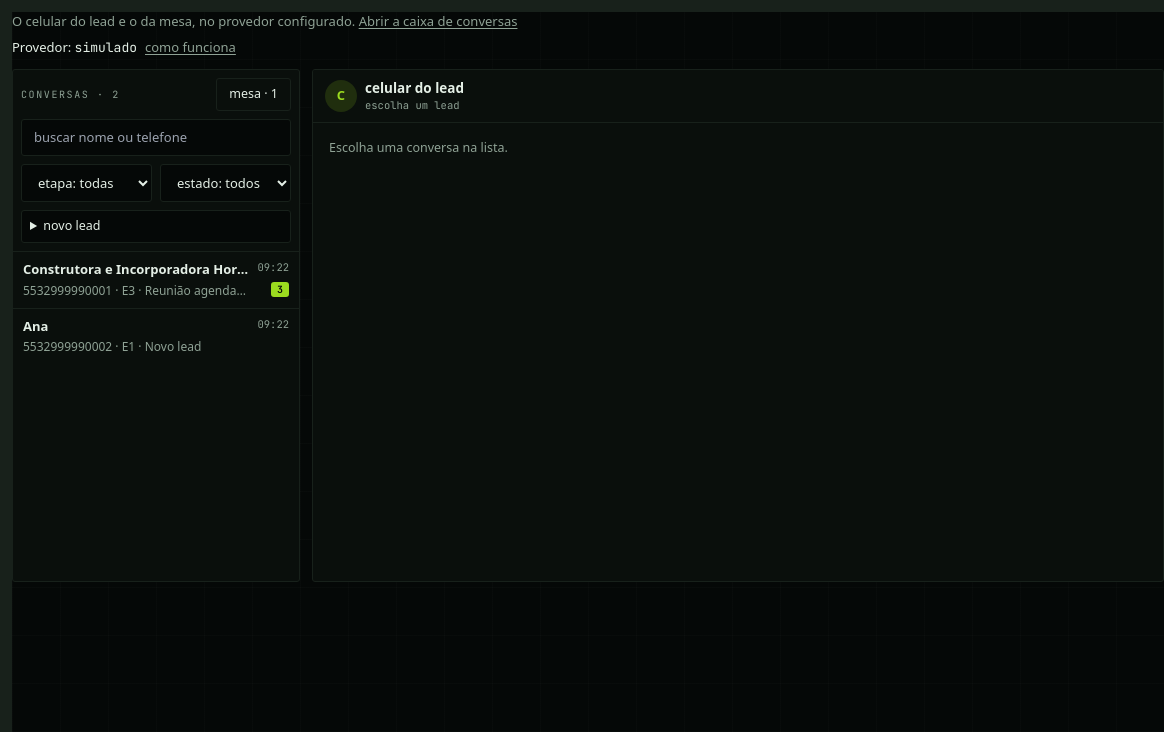
Test: WhatsApp do comercial: três colunas no desktop, uma por vez no celular › a mesa é alcançável da lista (aba mesa), mesmo sem conversa aberta
The width and height of the screenshot is (1164, 732).
Click the button with test id "whats-abrir-mesa": (254, 94) [216,78,291,111]
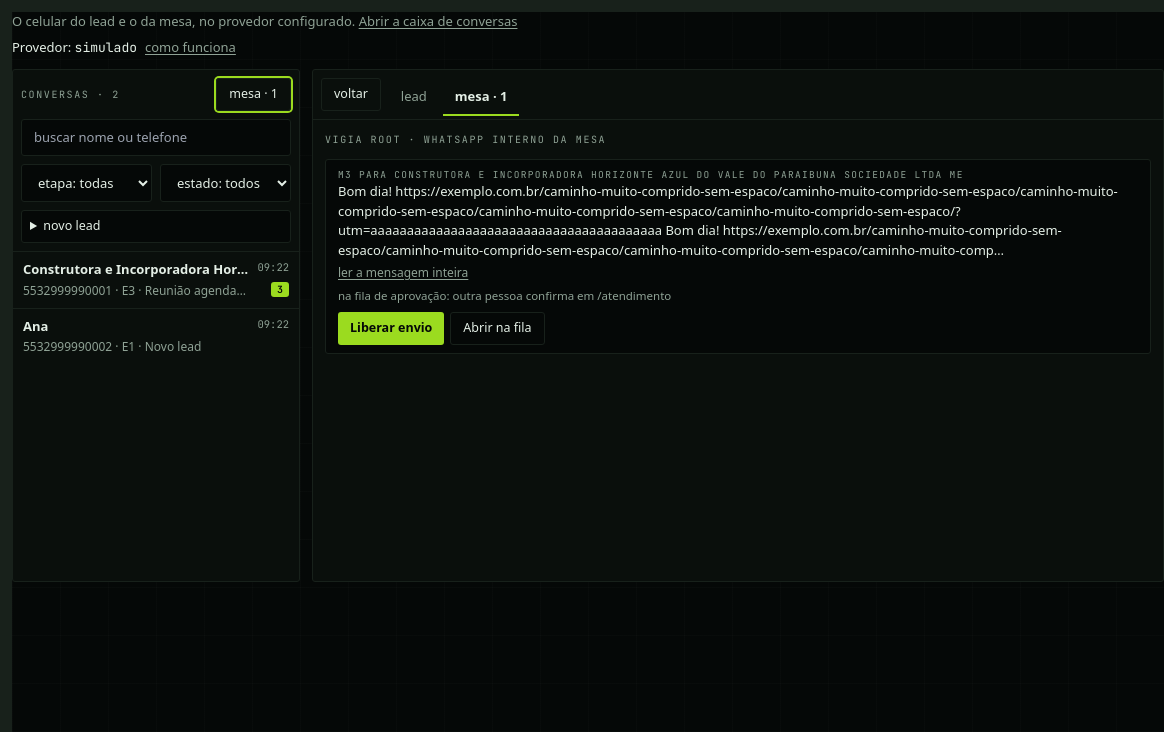
Expected: the button "Liberar envio" is shown, [338,312,444,345]
